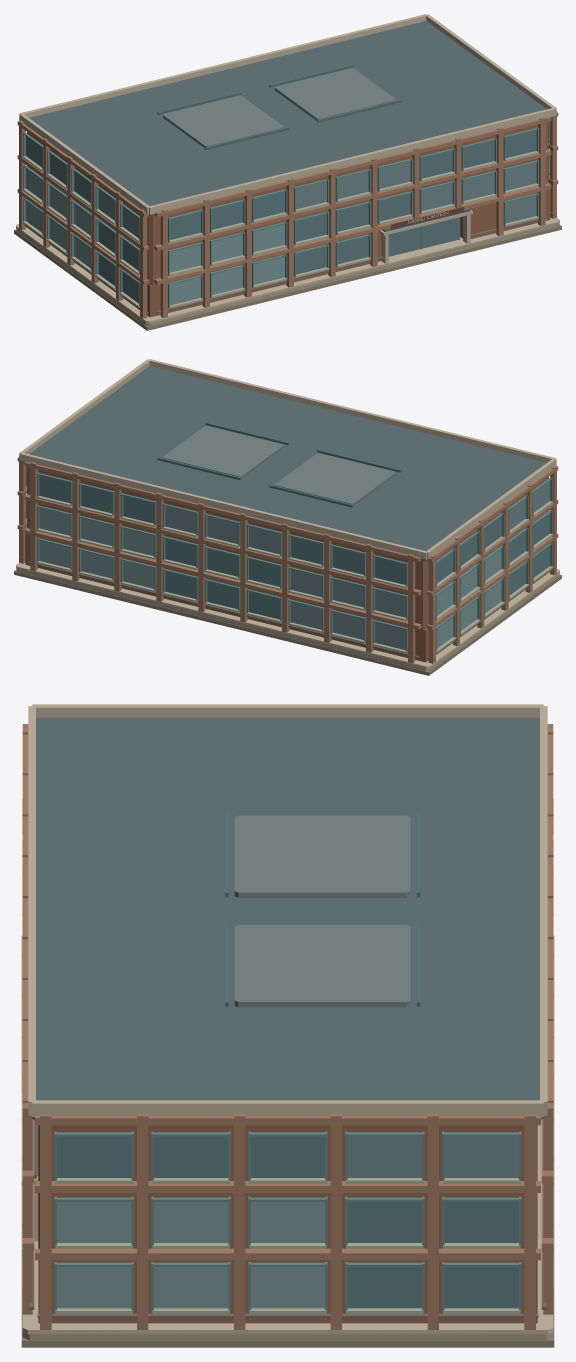
Rendered from canteen.glb.
The picture shows the model from 3 angles, top to bottom: view 1: azimuth 30°, elevation 25°; view 2: azimuth 150°, elevation 25°; view 3: azimuth 270°, elevation 25°; orthographic projection. The views are drawn at different scales.
Parts seen in each view (by area): view 1: form, glaze, relief, glowing; view 2: form, glaze, relief, glowing; view 3: form, glaze, relief, glowing.
Part boxes in pixels (x1,y1,x2,y2): form: [14, 14, 561, 330]; glaze: [26, 121, 549, 305]; relief: [22, 127, 549, 308]; glowing: [50, 130, 536, 262]; form: [14, 359, 561, 675]; glaze: [26, 466, 549, 650]; relief: [26, 472, 553, 653]; glowing: [81, 518, 477, 619]; form: [21, 704, 554, 1347]; glaze: [57, 1136, 518, 1308]; relief: [22, 798, 553, 1314]; glowing: [154, 1202, 228, 1242].
Size of the model in its own units: 36 by 10 by 20.
